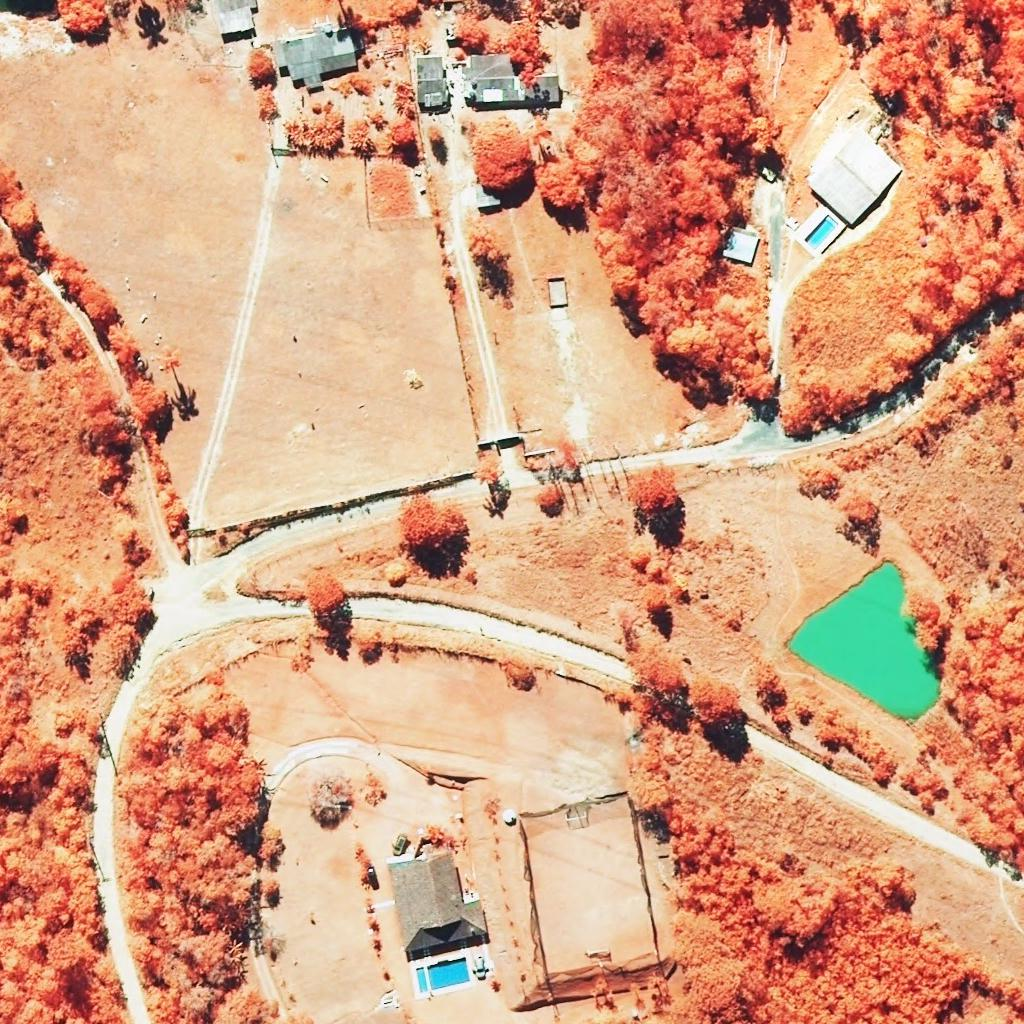pool: (427, 957, 470, 990), (804, 215, 839, 250), (416, 967, 428, 993)
